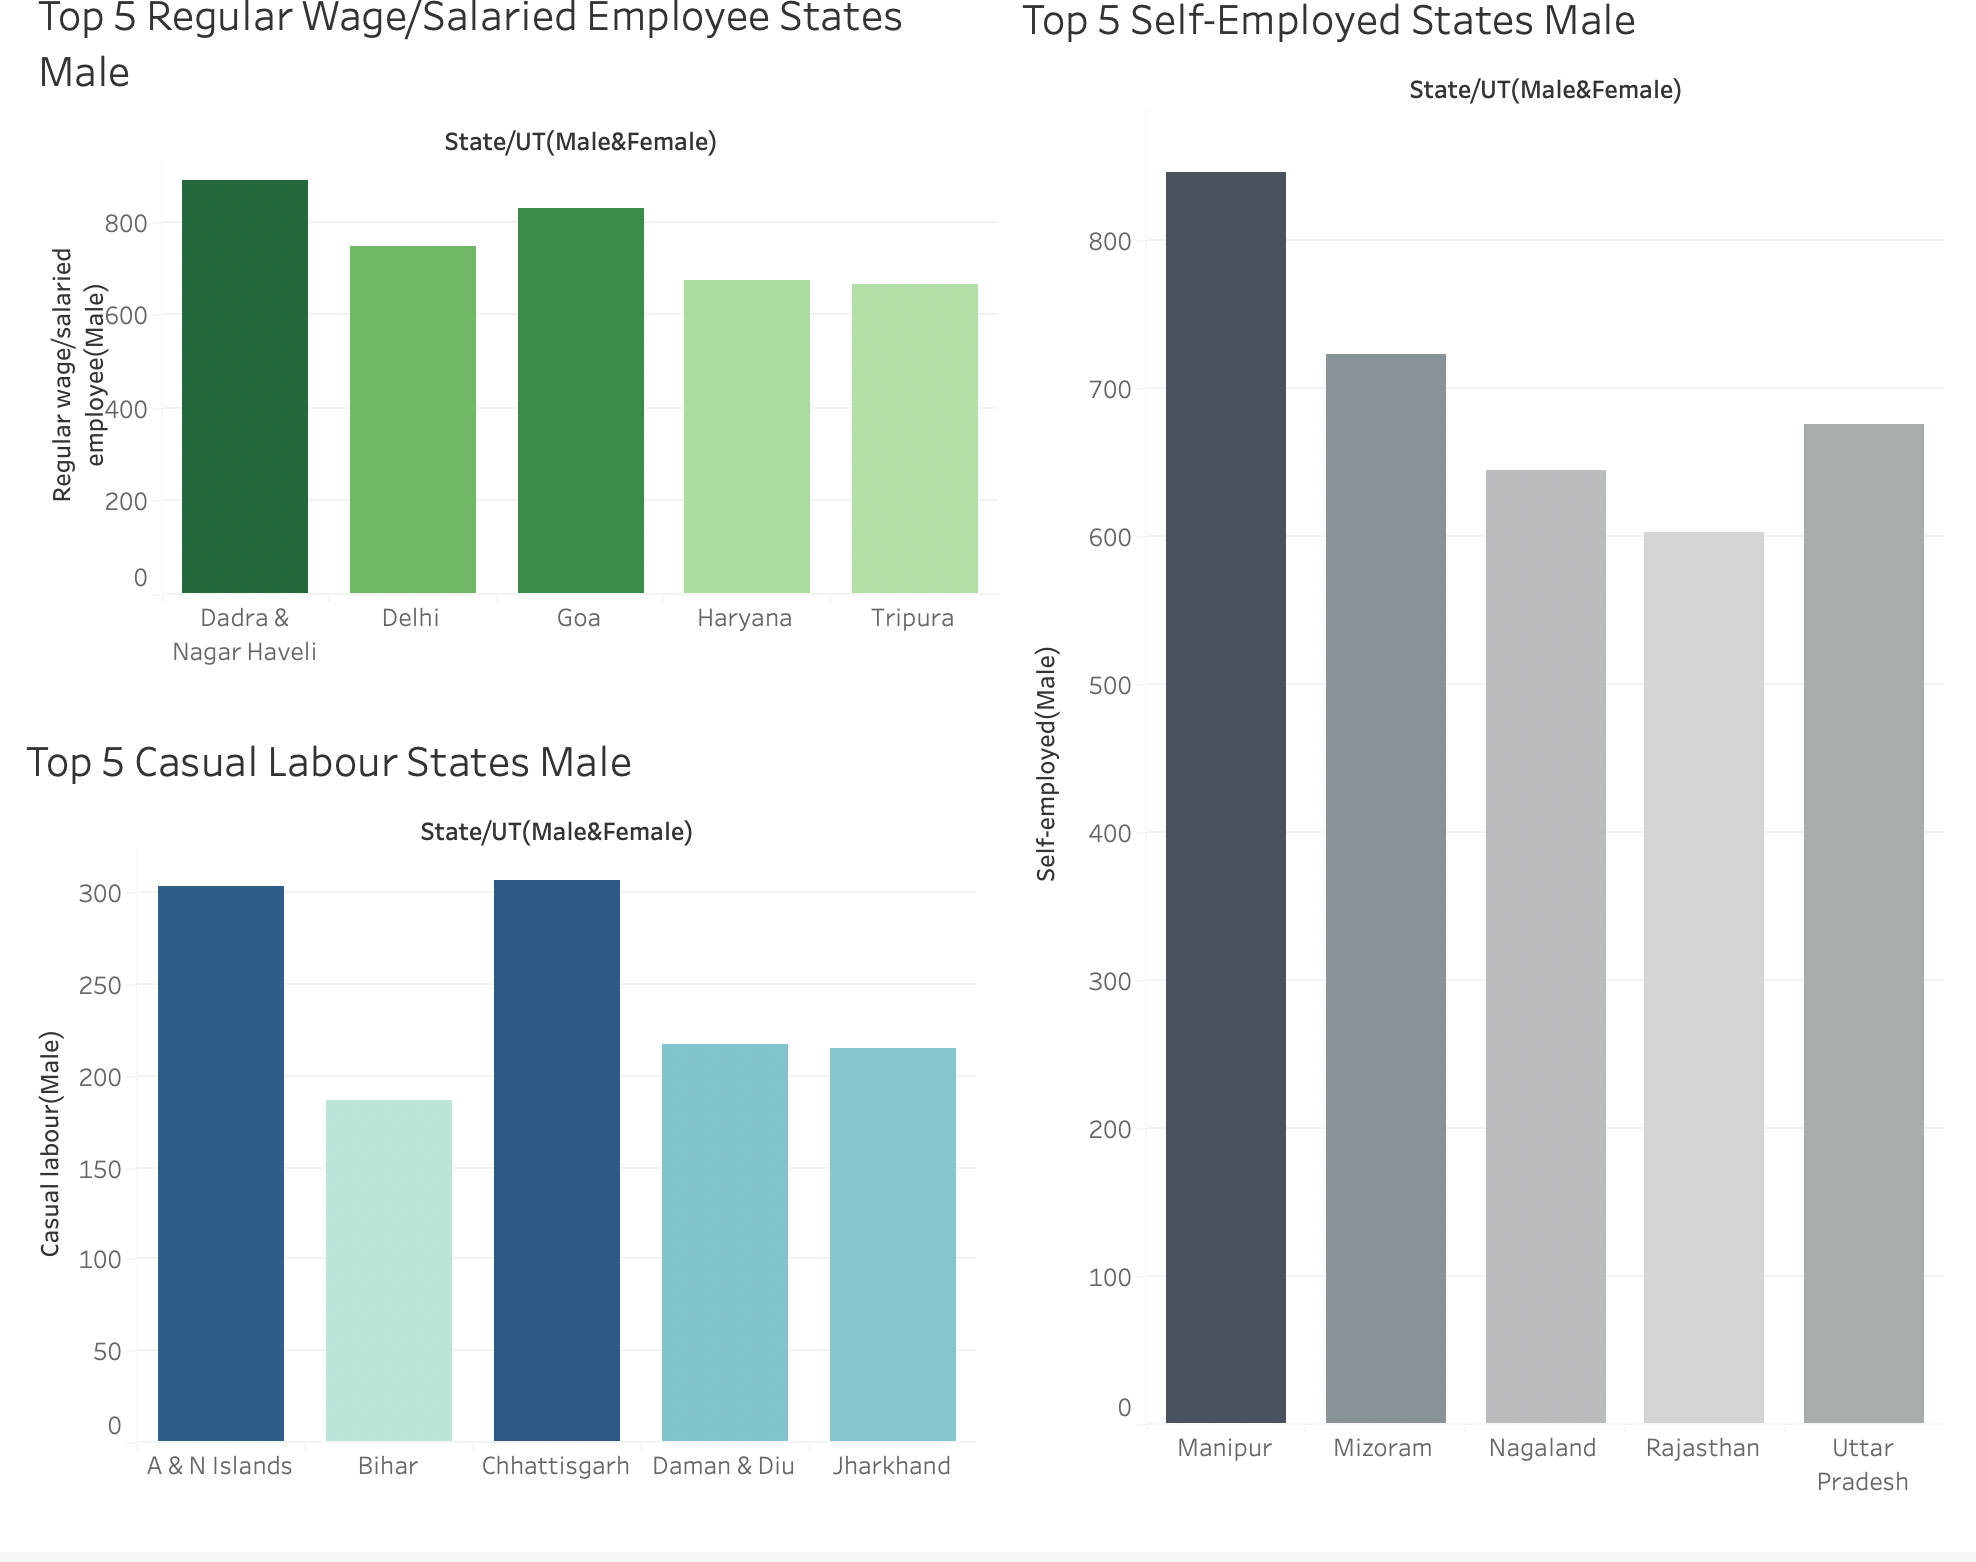

This screenshot's page, from the dashboard's own definition file:
{"tool":"tableau","page":{"name":"Top 5 by broad employement status for each State/UT Male","canvas":[1000,800],"ordinal":2},"visuals":[{"type":"worksheet","title":"Top 5 Regular Wage/Salaried Employee States Male","mark":"Automatic","rows":["Regular wage/salaried employee(Male)"],"cols":["State/UT(Male&Female)"],"box":[19,13,484,348]},{"type":"worksheet","title":"Top 5 Self-Employed States Male","mark":"Automatic","rows":["Self-employed(Male)"],"cols":["State/UT(Male&Female)"],"box":[511,15,465,761]},{"type":"worksheet","title":"Top 5 Casual Labour States Male","mark":"Automatic","rows":["Casual labour(Male)"],"cols":["State/UT(Male&Female)"],"box":[13,386,479,399]}]}

Visuals, with their boxes in screenshot pixels (x1, y1, x2, y2), scaled from the page's 1000x800 canvas onto the 1976x1562 screenshot:
"Top 5 Regular Wage/Salaried Employee States Male" worksheet: bbox(38, 25, 994, 705)
"Top 5 Self-Employed States Male" worksheet: bbox(1010, 29, 1929, 1515)
"Top 5 Casual Labour States Male" worksheet: bbox(26, 754, 972, 1533)
